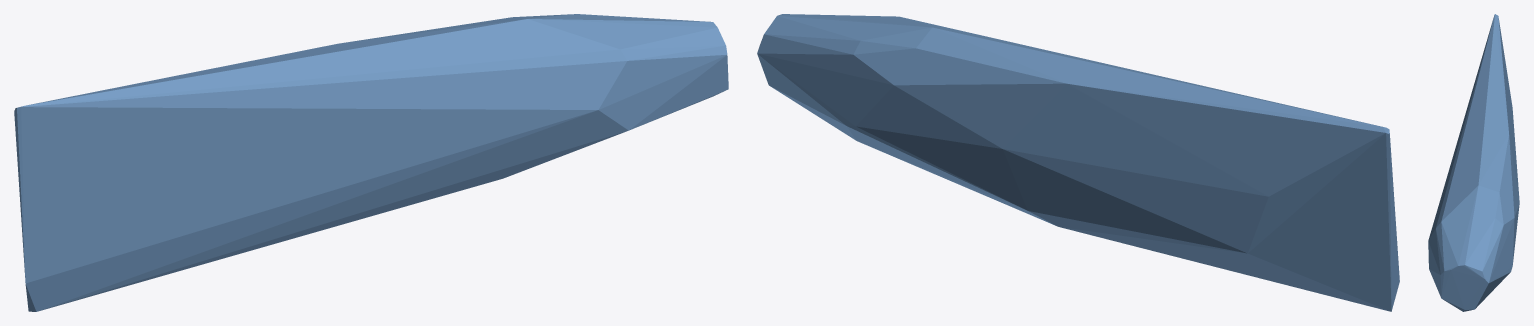
Rendered from paint_container_tube_d02.glb.
3 renders of one model, left to right at view 1: azimuth 30°, elevation 25°; view 2: azimuth 150°, elevation 25°; view 3: azimuth 270°, elevation 25°, orthographic. The views are drawn at different scales.
Visible parts, largest first — view 1: geometry_0; view 2: geometry_0; view 3: geometry_0.
Part boxes in pixels (x1,y1,x2,y2): geometry_0: (14,14,728,311); geometry_0: (757,14,1399,311); geometry_0: (1428,14,1519,311).
Size of the model in its own units: 0.4787 by 0.1354 by 0.0868.
